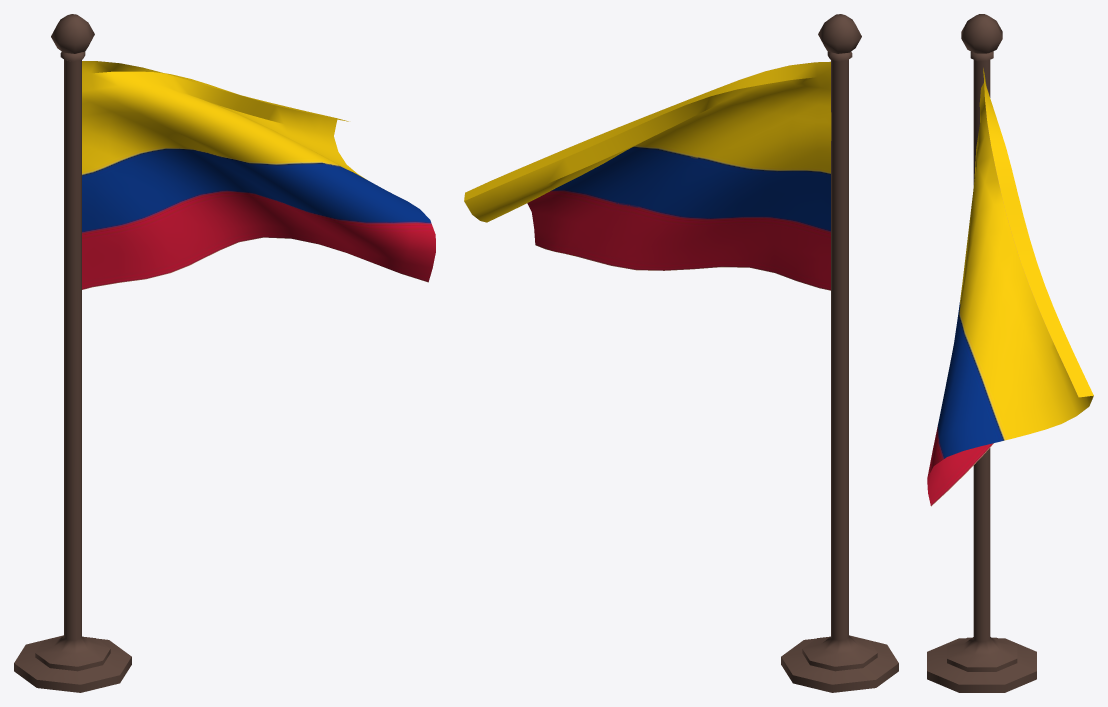
Rendered from Bandera.fbx.
3 renders of one model, left to right at view 1: azimuth 30°, elevation 25°; view 2: azimuth 150°, elevation 25°; view 3: azimuth 270°, elevation 25°, orthographic.
Visible parts, largest first — view 1: Bandera; view 2: Bandera; view 3: Bandera.
Part boxes in pixels (box(x1,y1,x2,y2)): Bandera: box(14, 14, 435, 692); Bandera: box(464, 14, 898, 692); Bandera: box(927, 14, 1093, 692).
Size of the model in its own units: 5.42 by 8.71 by 2.02.
2 materials, 1 textured.
